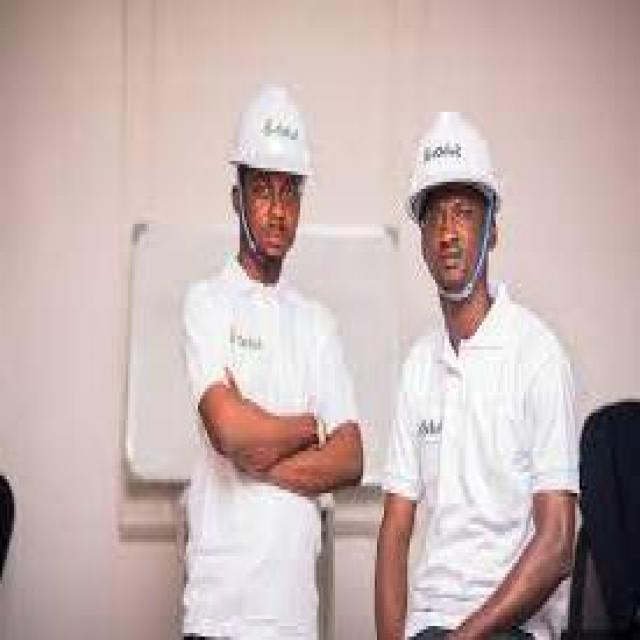Safety-Helmet: (219, 66, 328, 196), (396, 98, 510, 220)
